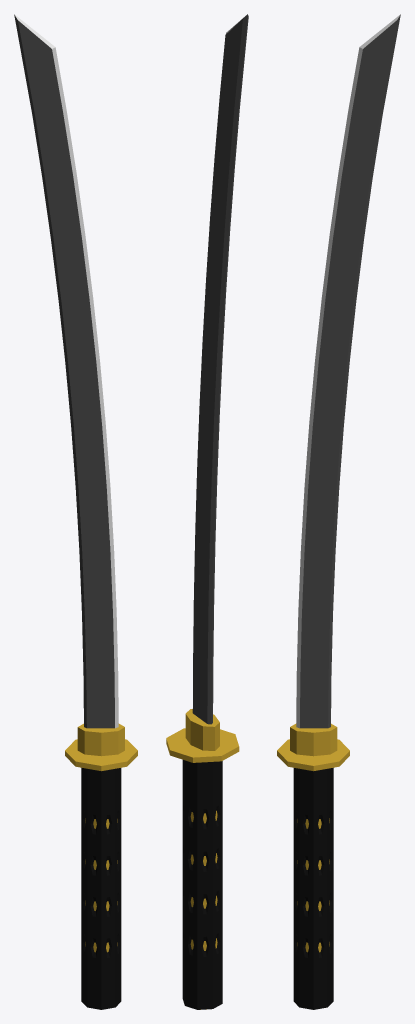
Rendered from Katana.glb.
3 views of the same model, side by side, from view 1: azimuth 90°, elevation 25°; view 2: azimuth 210°, elevation 25°; view 3: azimuth 270°, elevation 25° (orthographic). The views are drawn at different scales.
Visible parts, largest first — view 1: Katana; view 2: Katana; view 3: Katana.
Part boxes in pixels (box(x1,y1,x2,y2)): Katana: box(14, 14, 137, 1009); Katana: box(166, 14, 248, 1009); Katana: box(277, 14, 400, 1009).
Size of the model in its own units: 0.0559 by 0.8346 by 0.0948.
